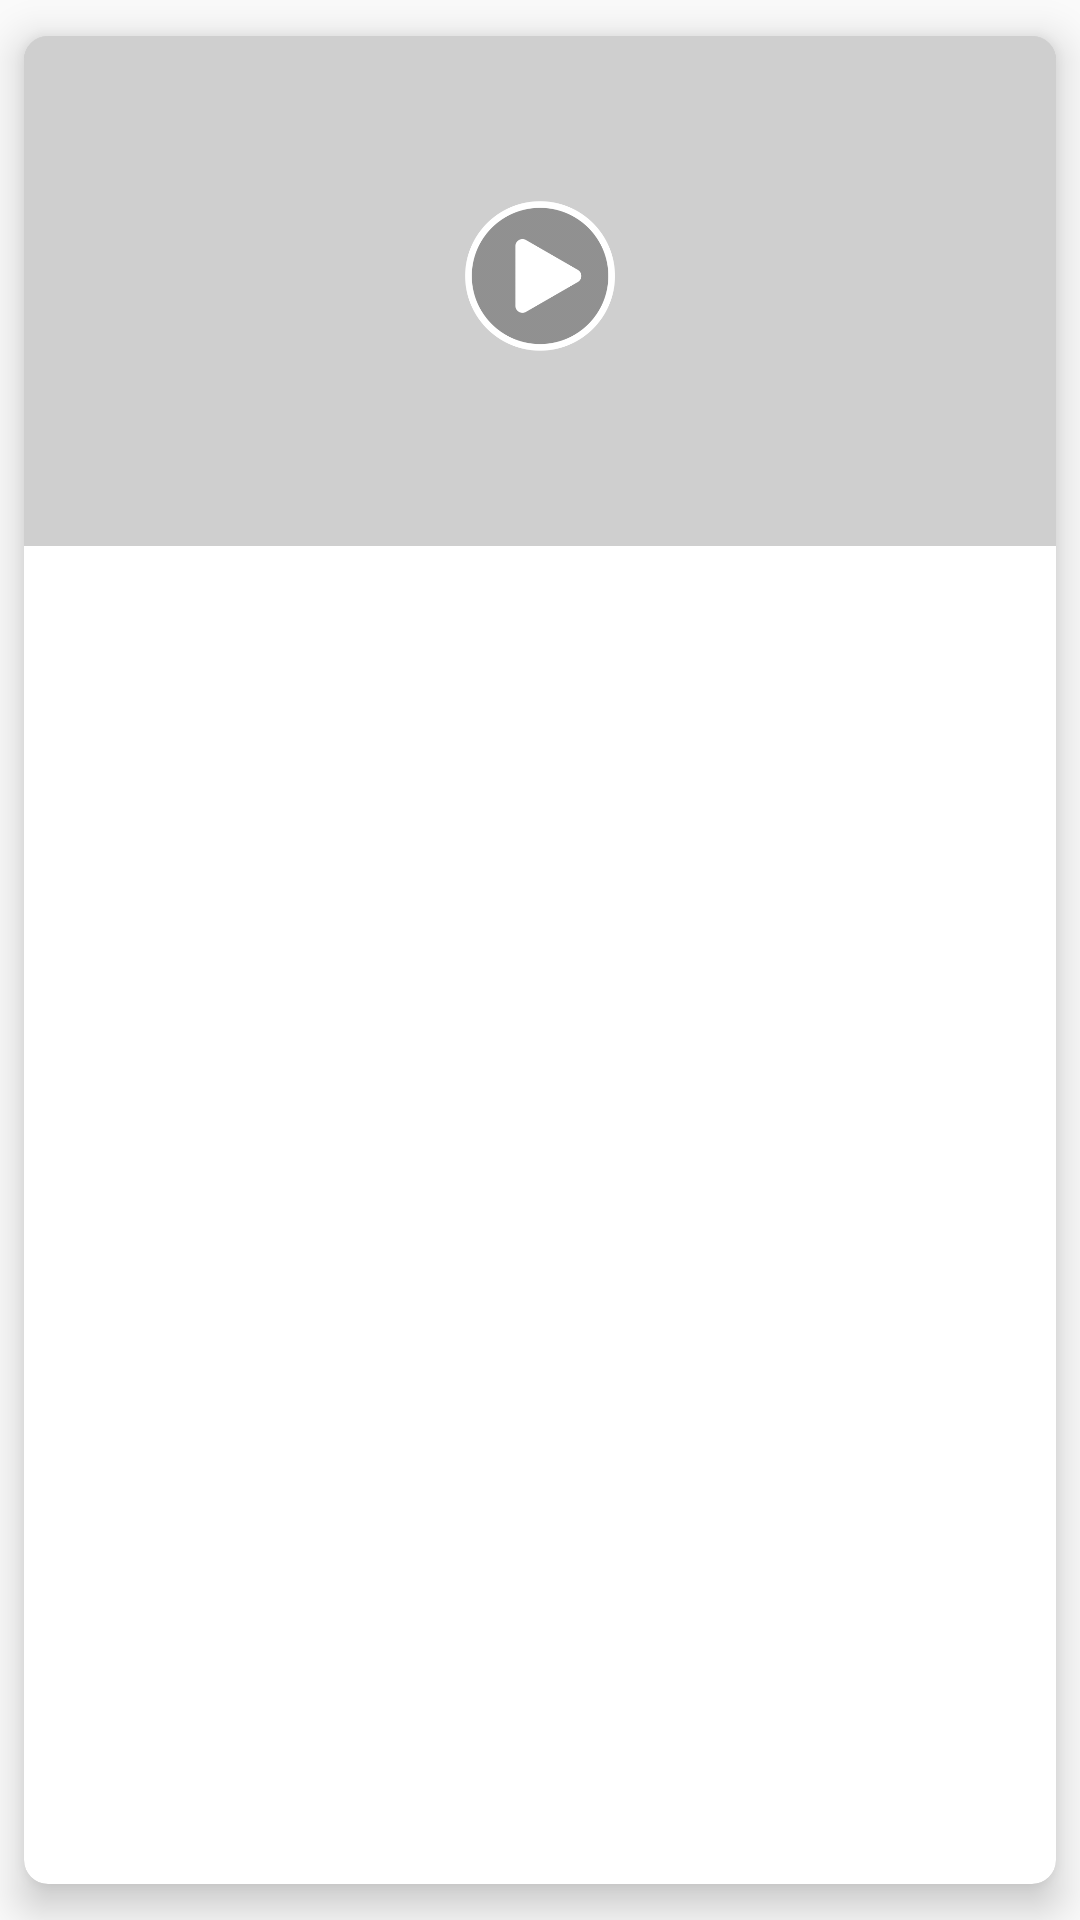

Where to tap for icons on this 1080x1920 app screen, as [x,y]:
videoplay: [540,276]
